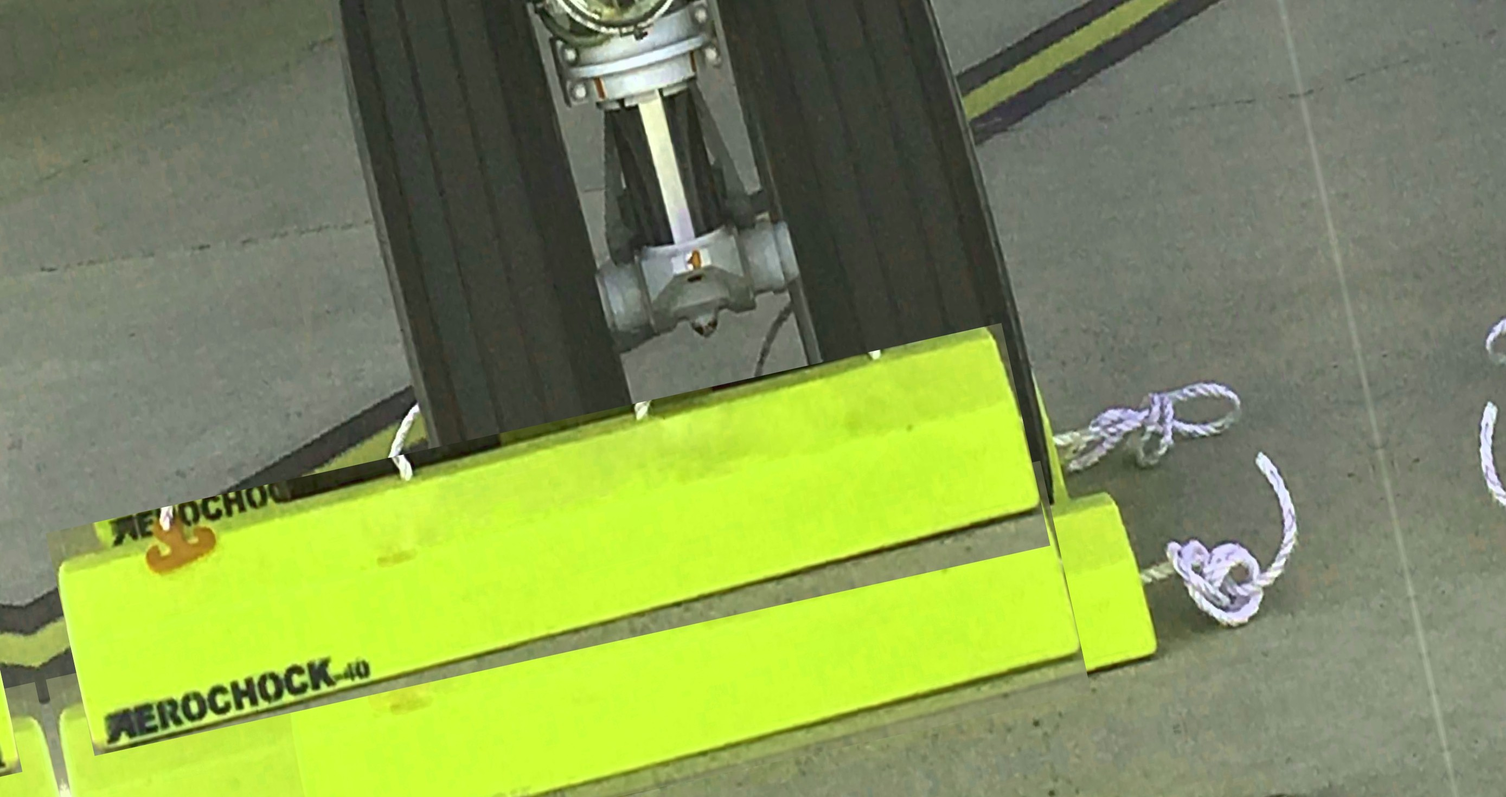chock: (46, 323, 1050, 756), (46, 461, 1091, 797), (279, 491, 1166, 797), (291, 371, 1077, 687)
wheel: (321, 0, 677, 653), (692, 0, 1059, 559)
